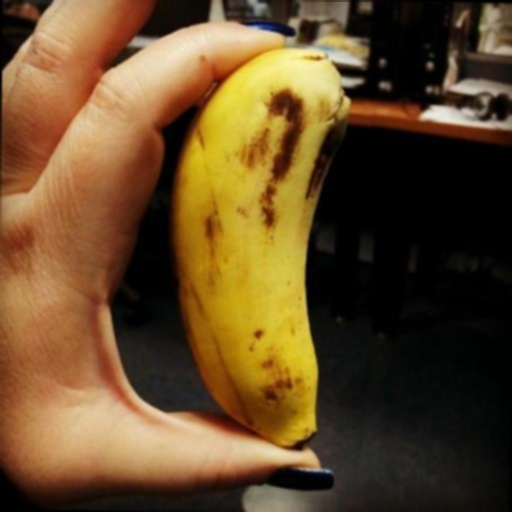fruit: (81, 110, 263, 392)
